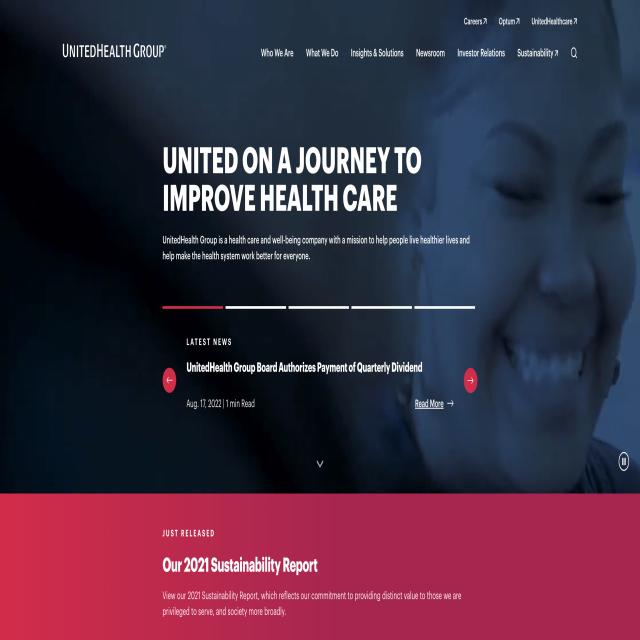Logo: (60, 22, 180, 77)
Navigation: (261, 26, 598, 88)
